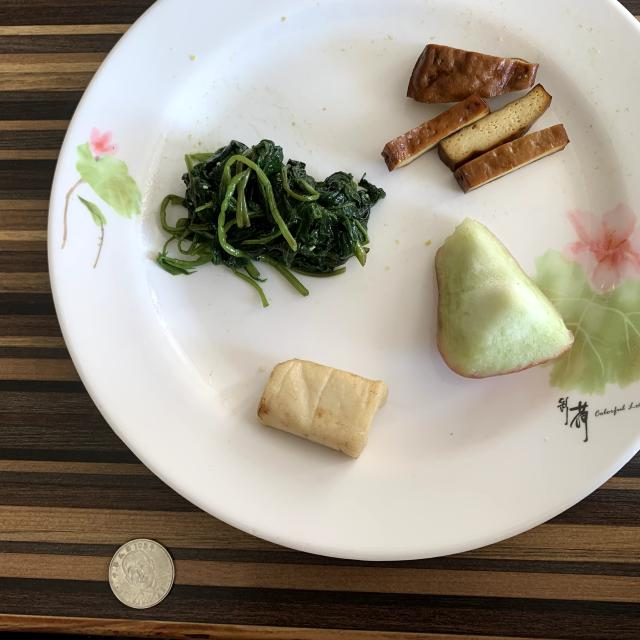coin: (109, 539, 175, 609)
creamy tofu -without sauce-: (258, 359, 388, 458)
firm tofu: (381, 45, 569, 192)
sweet potato leaves: (158, 140, 385, 295)
